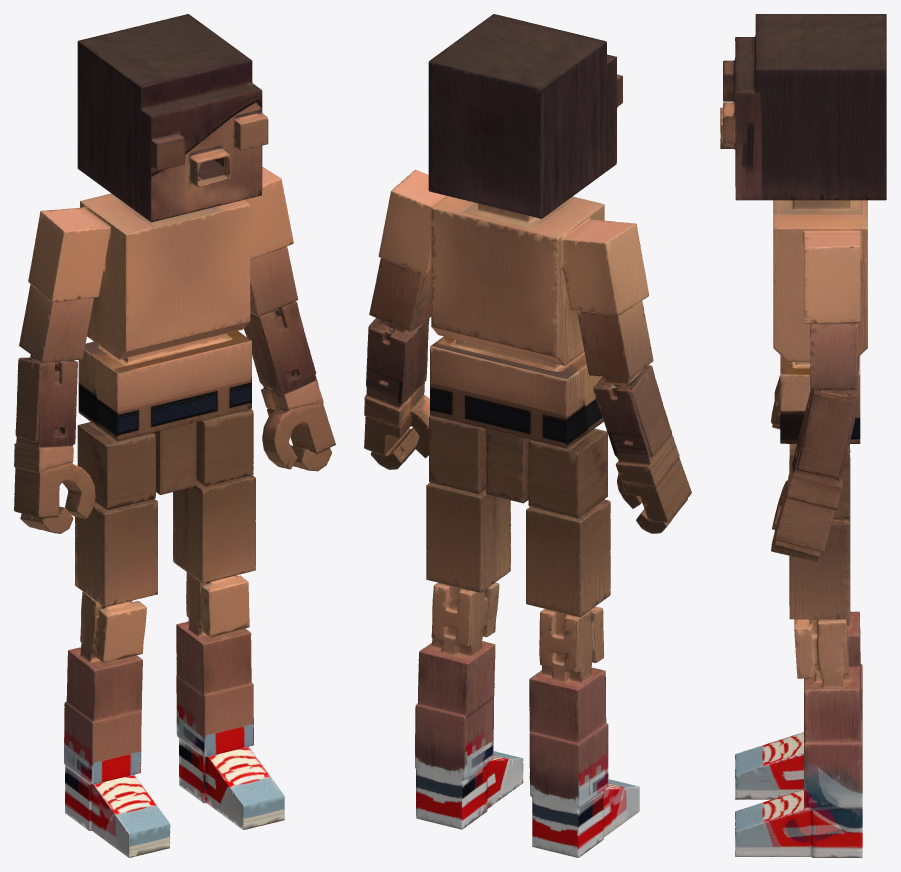
Rendered from Meshy_AI_voxel_base_mesh_karak_0608092123_texture.fbx.
3 renders of one model, left to right at view 1: azimuth 30°, elevation 25°; view 2: azimuth 150°, elevation 25°; view 3: azimuth 270°, elevation 25°, orthographic. The views are drawn at different scales.
Visible parts, largest first — view 1: Mesh_0; view 2: Mesh_0; view 3: Mesh_0.
Boxes of the visible parts, left/top/right/bottom form: Mesh_0: left=14, top=14, right=335, bottom=857; Mesh_0: left=364, top=14, right=691, bottom=857; Mesh_0: left=720, top=14, right=886, bottom=857.
Size of the model in its own units: 78.35 by 190 by 36.87.
1 material, 1 textured.
